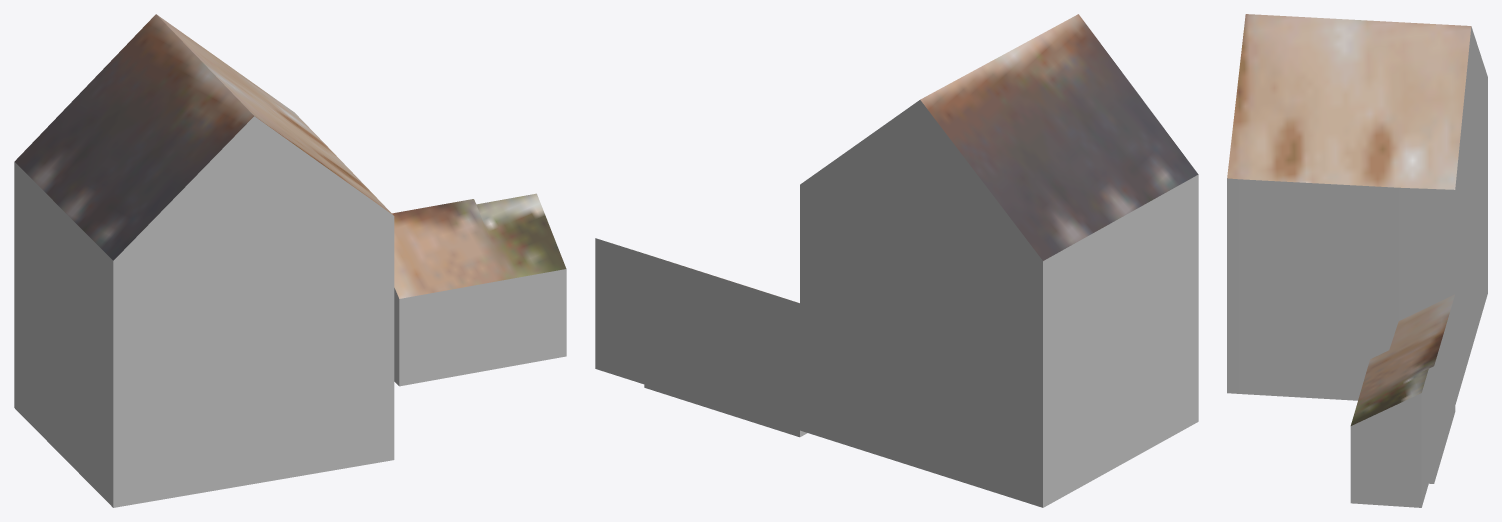
Rendered from DEBW_0010007Tx55.gltf.
3 renders of one model, left to right at view 1: azimuth 30°, elevation 25°; view 2: azimuth 150°, elevation 25°; view 3: azimuth 270°, elevation 25°, orthographic. The views are drawn at different scales.
Parts seen in each view (by area): view 1: Z_UP; view 2: Z_UP; view 3: Z_UP.
Boxes of the visible parts, x1,y1,x2,y2 form: Z_UP: (14,14,566,507); Z_UP: (595,14,1198,507); Z_UP: (1227,14,1487,507).
Size of the model in its own units: 17.65 by 12.35 by 8.83.
2 materials, 1 textured.
